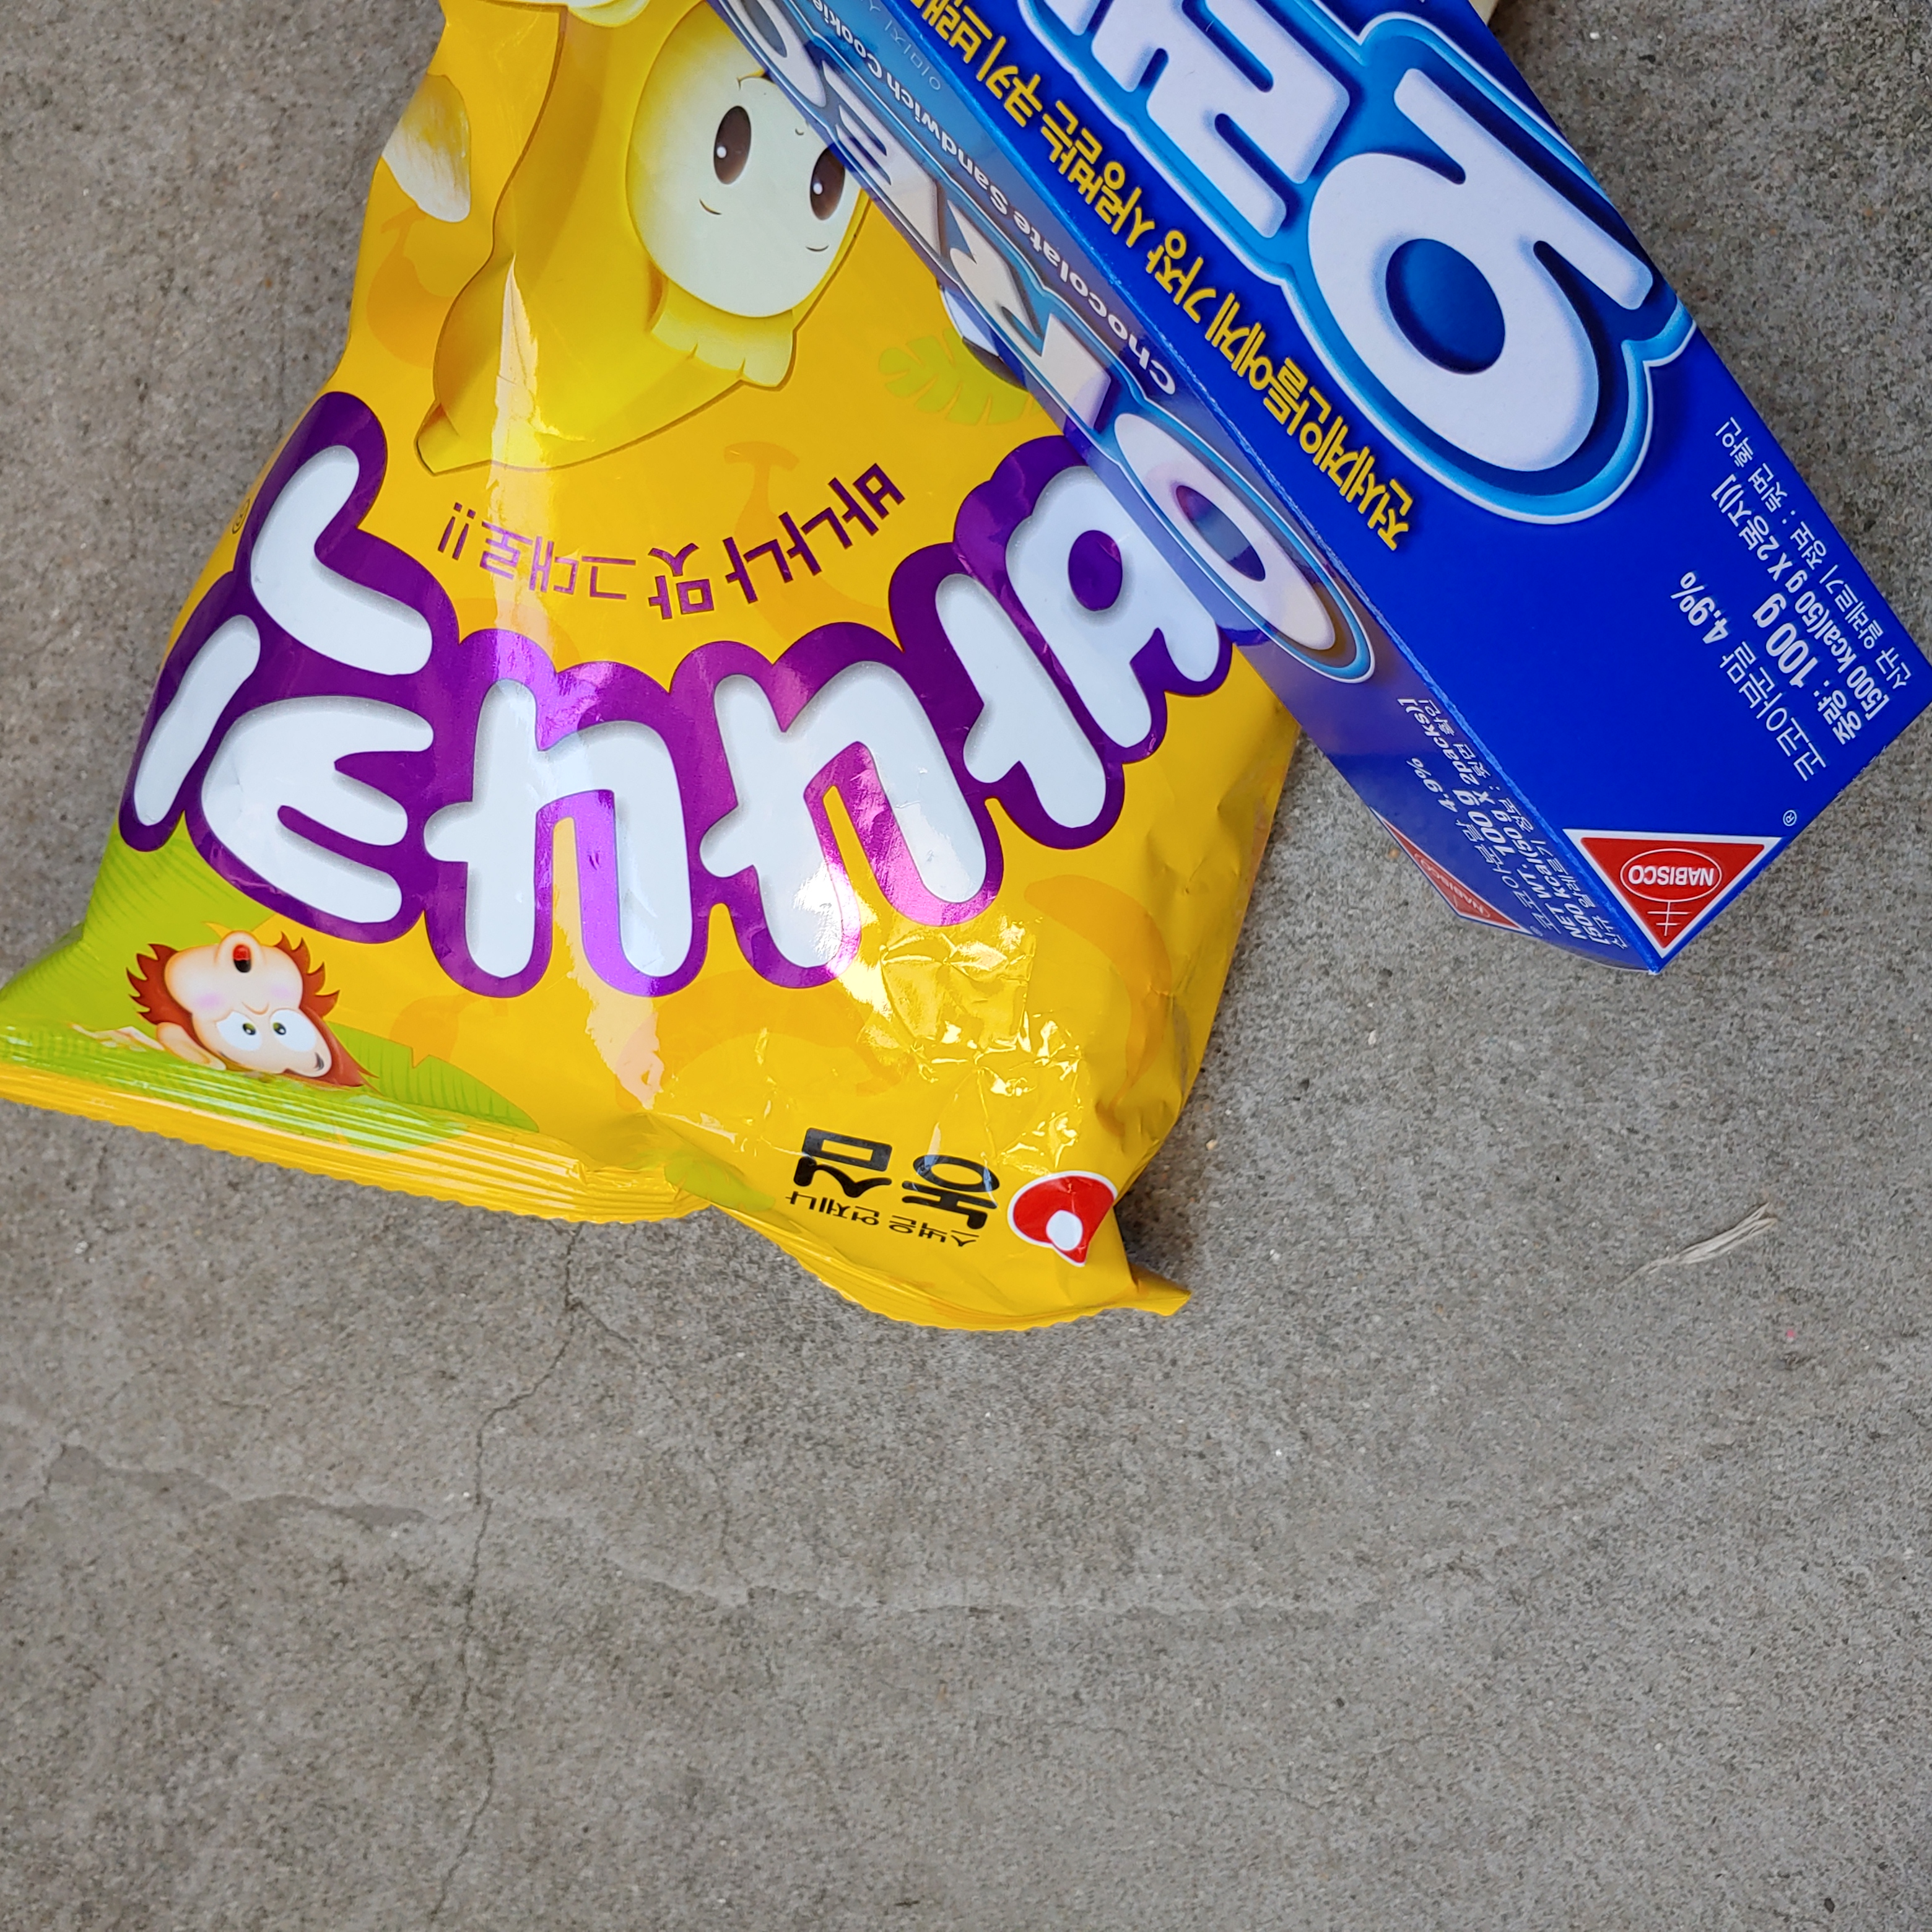banana: (0, 0, 1315, 1424)
oreo: (729, 0, 1930, 1014)
